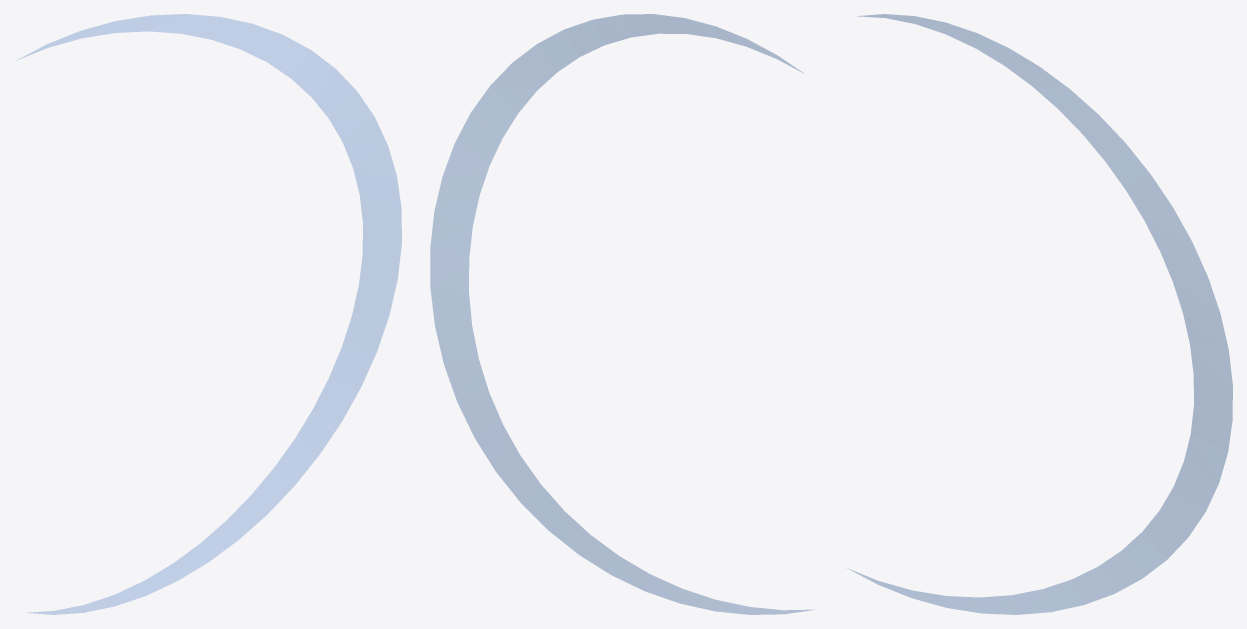
The model's file is black-rain-waist.glb.
3 renders of one model, left to right at view 1: azimuth 30°, elevation 25°; view 2: azimuth 150°, elevation 25°; view 3: azimuth 330°, elevation 25°, orthographic.
Parts seen in each view (by area): view 1: 黒雨・自作3D・waist; view 2: 黒雨・自作3D・waist; view 3: 黒雨・自作3D・waist.
Part boxes in pixels (x1,y1,x2,y2): 黒雨・自作3D・waist: [16, 14, 401, 614]; 黒雨・自作3D・waist: [430, 14, 814, 614]; 黒雨・自作3D・waist: [847, 14, 1232, 614].
Size of the model in its own units: 1.46 by 2.14 by 0.1095.
